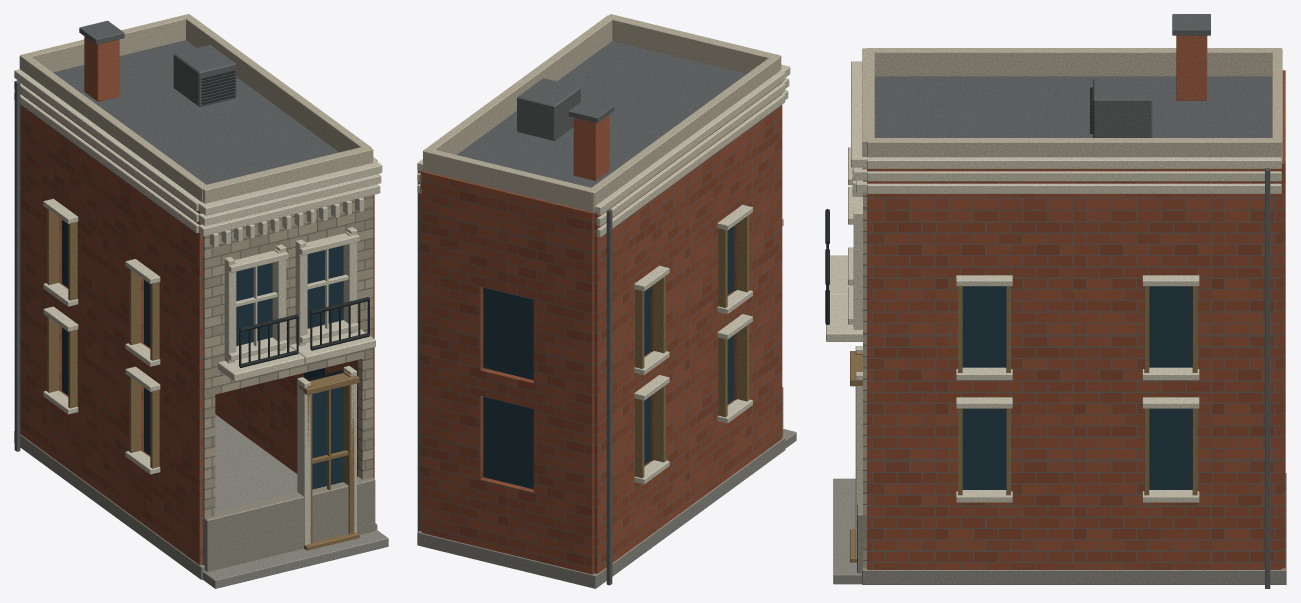
The model's file is RUNDWN15_lod1.glb.
3 views of the same model, side by side, from view 1: azimuth 30°, elevation 25°; view 2: azimuth 150°, elevation 25°; view 3: azimuth 270°, elevation 25° (orthographic). The views are drawn at different scales.
Visible parts, largest first — view 1: RUNDWN15_LOD1; view 2: RUNDWN15_LOD1; view 3: RUNDWN15_LOD1.
Part boxes in pixels (x1=…): RUNDWN15_LOD1: x1=14, y1=14, x2=388, y2=588; RUNDWN15_LOD1: x1=417, y1=14, x2=796, y2=588; RUNDWN15_LOD1: x1=825, y1=14, x2=1286, y2=588.
Size of the model in its own units: 3.71 by 7.85 by 6.68.
Materials: 12 (10 with a texture image).
